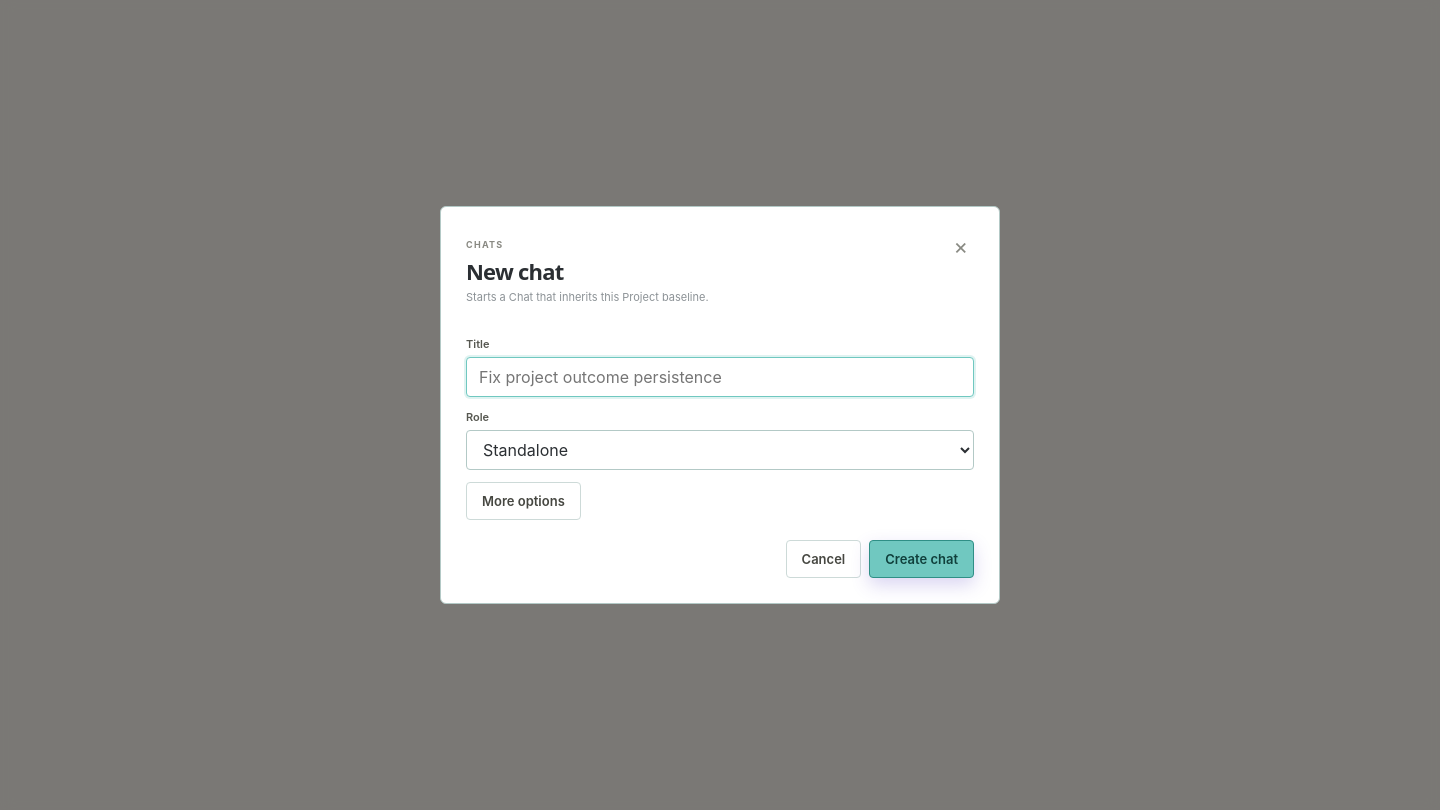
Test: ProjectDialogs › stacks title and role controls in shared labelled fields without changing details
Expected: the element with class "dialog-field" showing "Role" is shown, [466,410,974,470]
Expected: the field labelled "Description" is not shown
Click the button "More options" at (523, 501), box [466,482,581,520]
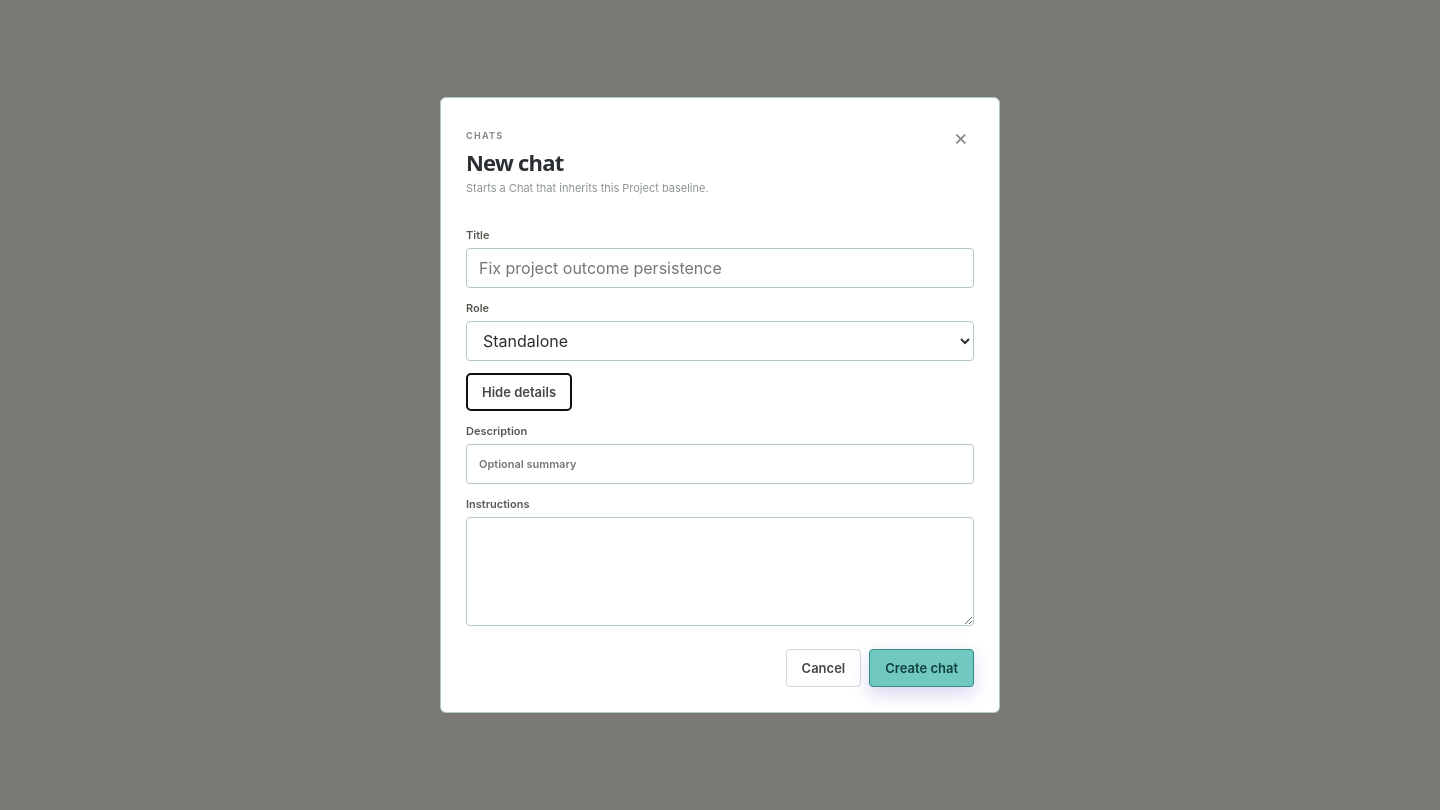
Now the field labelled "Description" is shown, box [466,444,974,484]
Now the text box labelled "Instructions" is shown, box [466,517,974,626]
